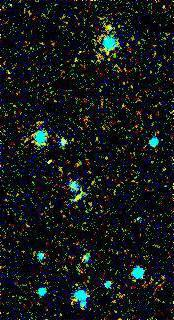star: (96, 11, 126, 41)
